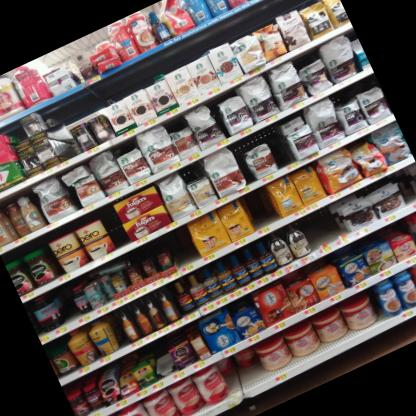empty_space: (302, 210, 343, 252), (164, 227, 200, 271), (245, 188, 278, 231), (151, 349, 182, 382), (275, 132, 297, 172), (399, 183, 416, 209)
